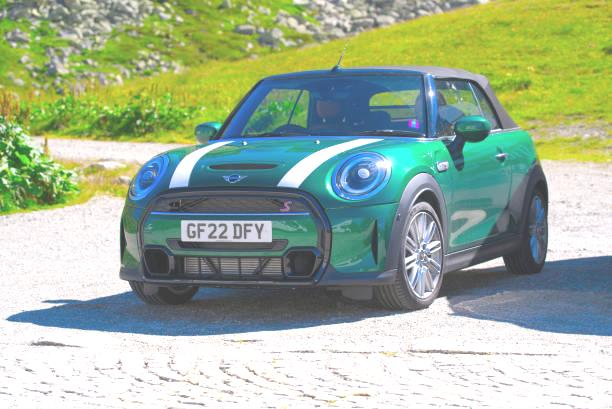mini: (214, 168, 254, 198)
